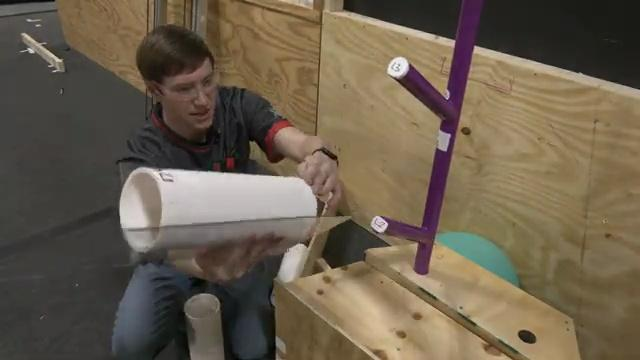CORAL: (116, 168, 317, 252), (183, 294, 225, 360)
